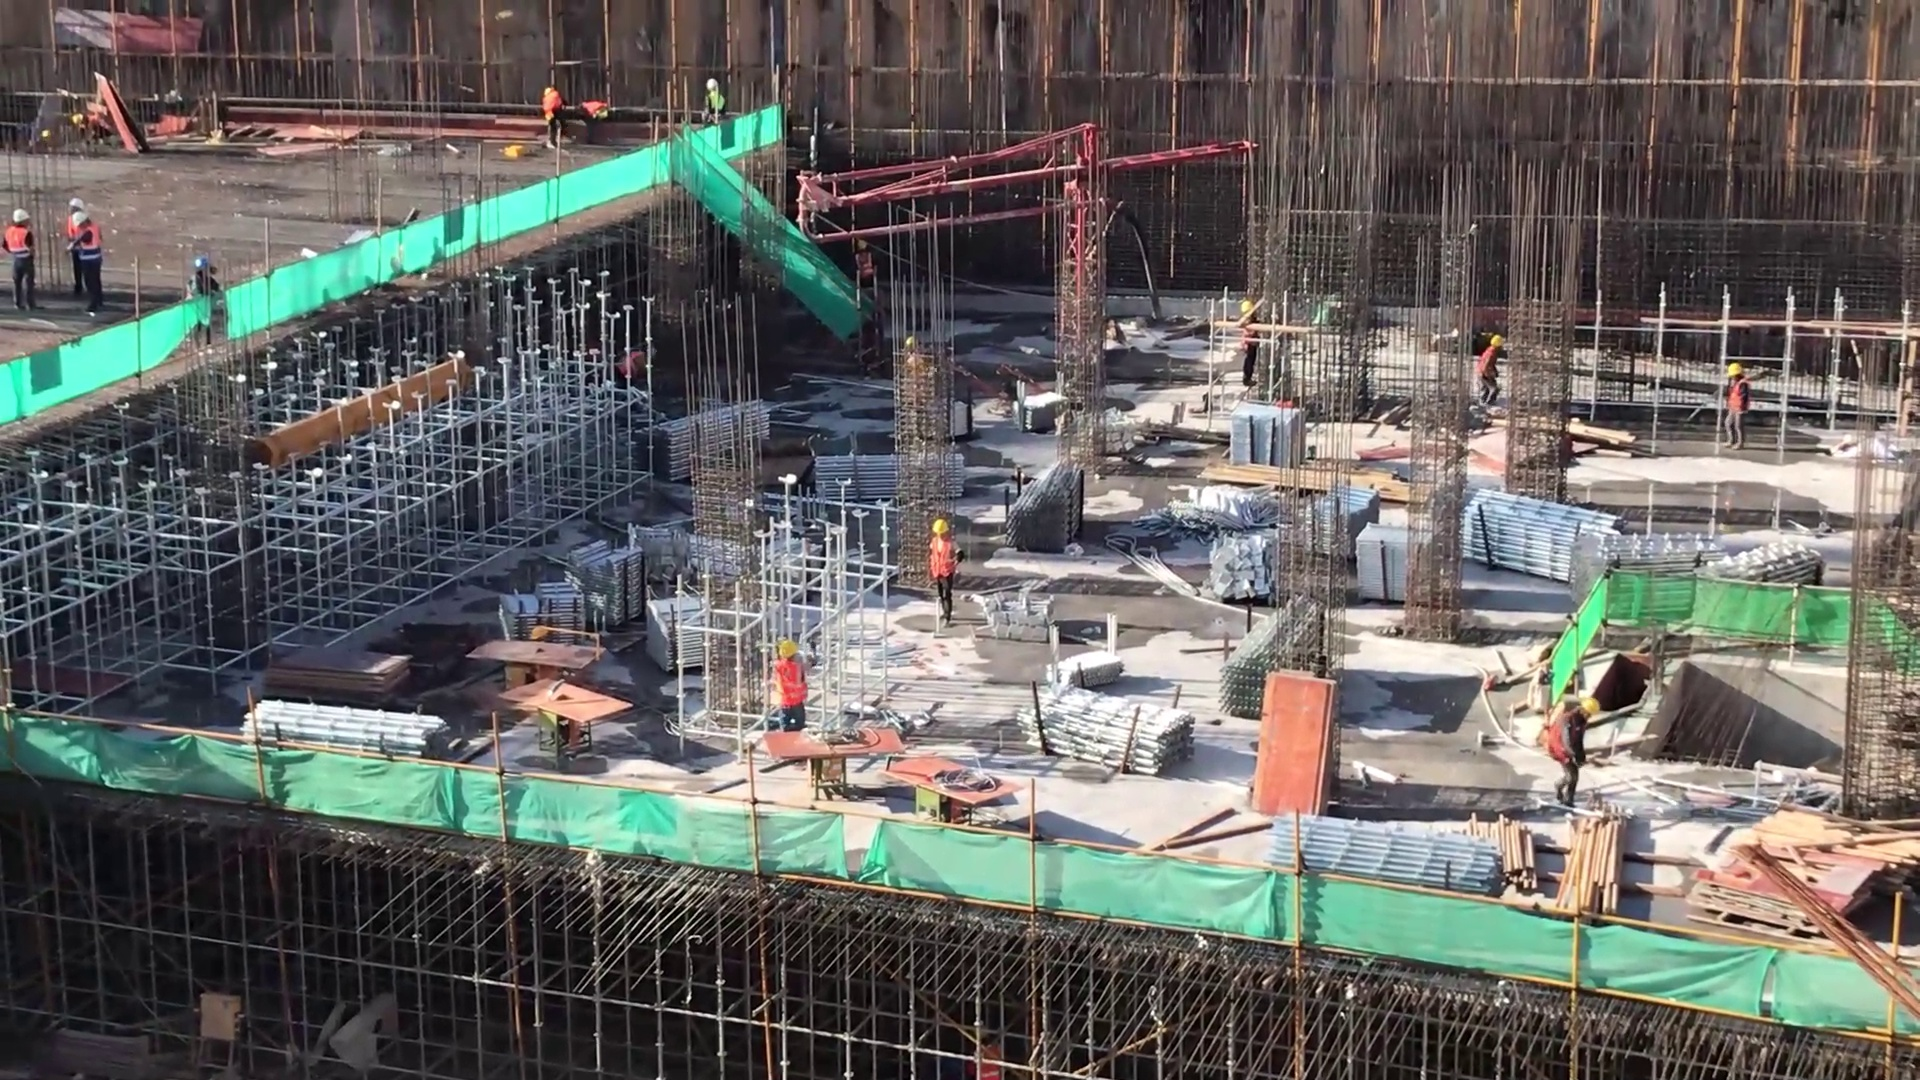board: (1677, 846, 1892, 920), (1248, 662, 1344, 818), (263, 644, 410, 710)
brick: (1206, 530, 1280, 608)
cutter: (757, 710, 917, 803), (498, 674, 635, 763), (882, 751, 1022, 837), (467, 630, 600, 697)
helmet: (8, 202, 37, 234), (776, 634, 802, 664), (1577, 699, 1603, 721), (193, 253, 218, 276), (928, 517, 951, 540), (1723, 360, 1744, 383), (1482, 333, 1506, 354), (75, 209, 92, 234), (855, 237, 871, 260), (1240, 297, 1258, 316), (67, 196, 88, 212), (705, 76, 721, 93)
person: (1541, 697, 1607, 823), (923, 516, 973, 627), (773, 632, 817, 743), (4, 195, 40, 317), (1237, 291, 1269, 402), (1474, 330, 1515, 416), (1719, 364, 1755, 458), (73, 212, 101, 316), (192, 249, 221, 353), (607, 336, 660, 391), (575, 94, 622, 150), (540, 82, 569, 161), (701, 74, 734, 134), (854, 232, 878, 315), (62, 190, 89, 257)
scaffold: (1267, 807, 1511, 919), (238, 692, 481, 795), (1020, 676, 1204, 785), (1455, 489, 1627, 587), (1216, 586, 1328, 725), (1570, 526, 1721, 618), (1690, 537, 1829, 635), (642, 395, 771, 488), (996, 454, 1086, 553), (804, 450, 970, 502), (565, 536, 647, 625), (1297, 488, 1391, 565), (649, 589, 723, 684), (502, 581, 587, 659)
vest: (773, 659, 812, 711), (1546, 711, 1576, 767), (928, 537, 960, 587), (7, 226, 35, 263), (1726, 374, 1750, 419), (81, 221, 104, 261), (1475, 344, 1495, 385), (856, 252, 876, 286), (541, 89, 564, 116), (706, 93, 728, 115)
